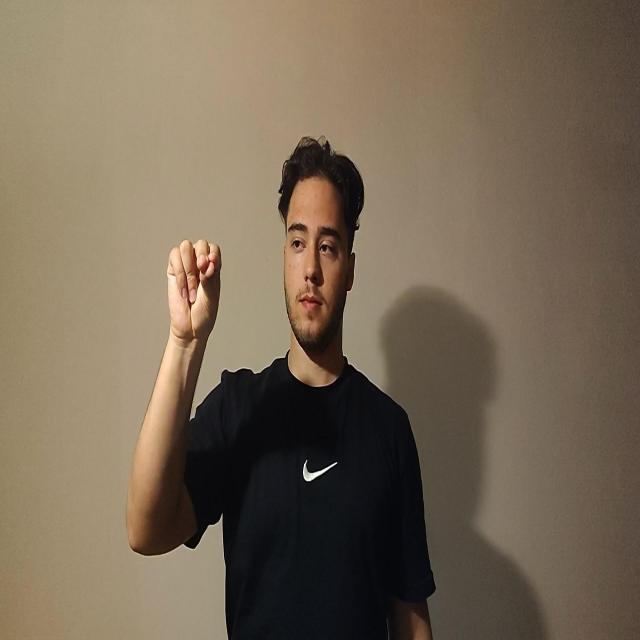no: (166, 237, 222, 344)
